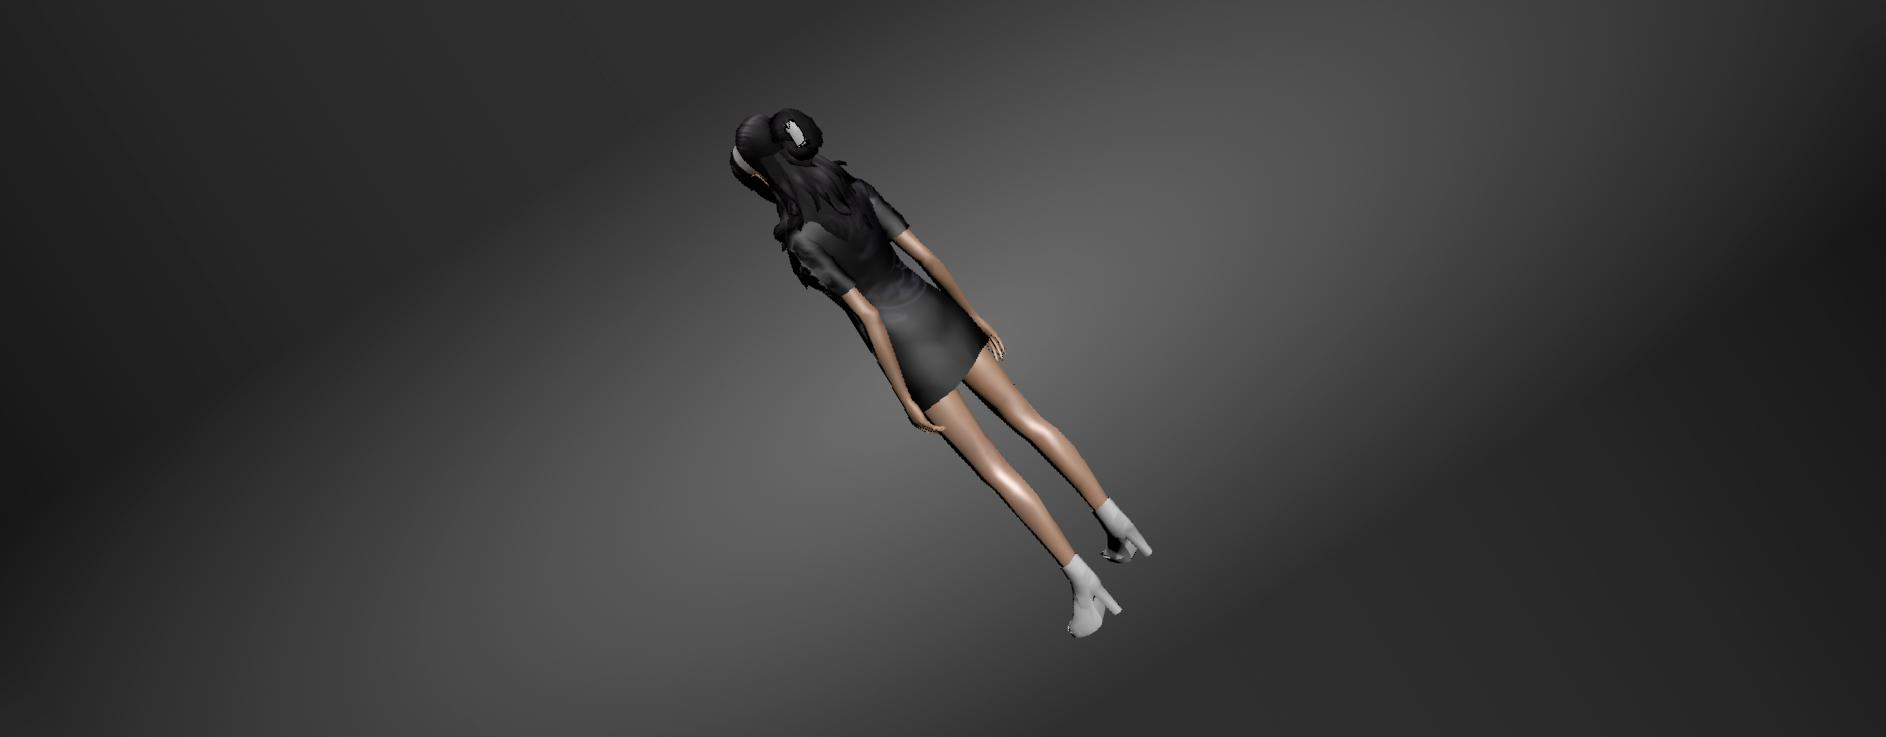clip: (784, 120, 812, 149)
